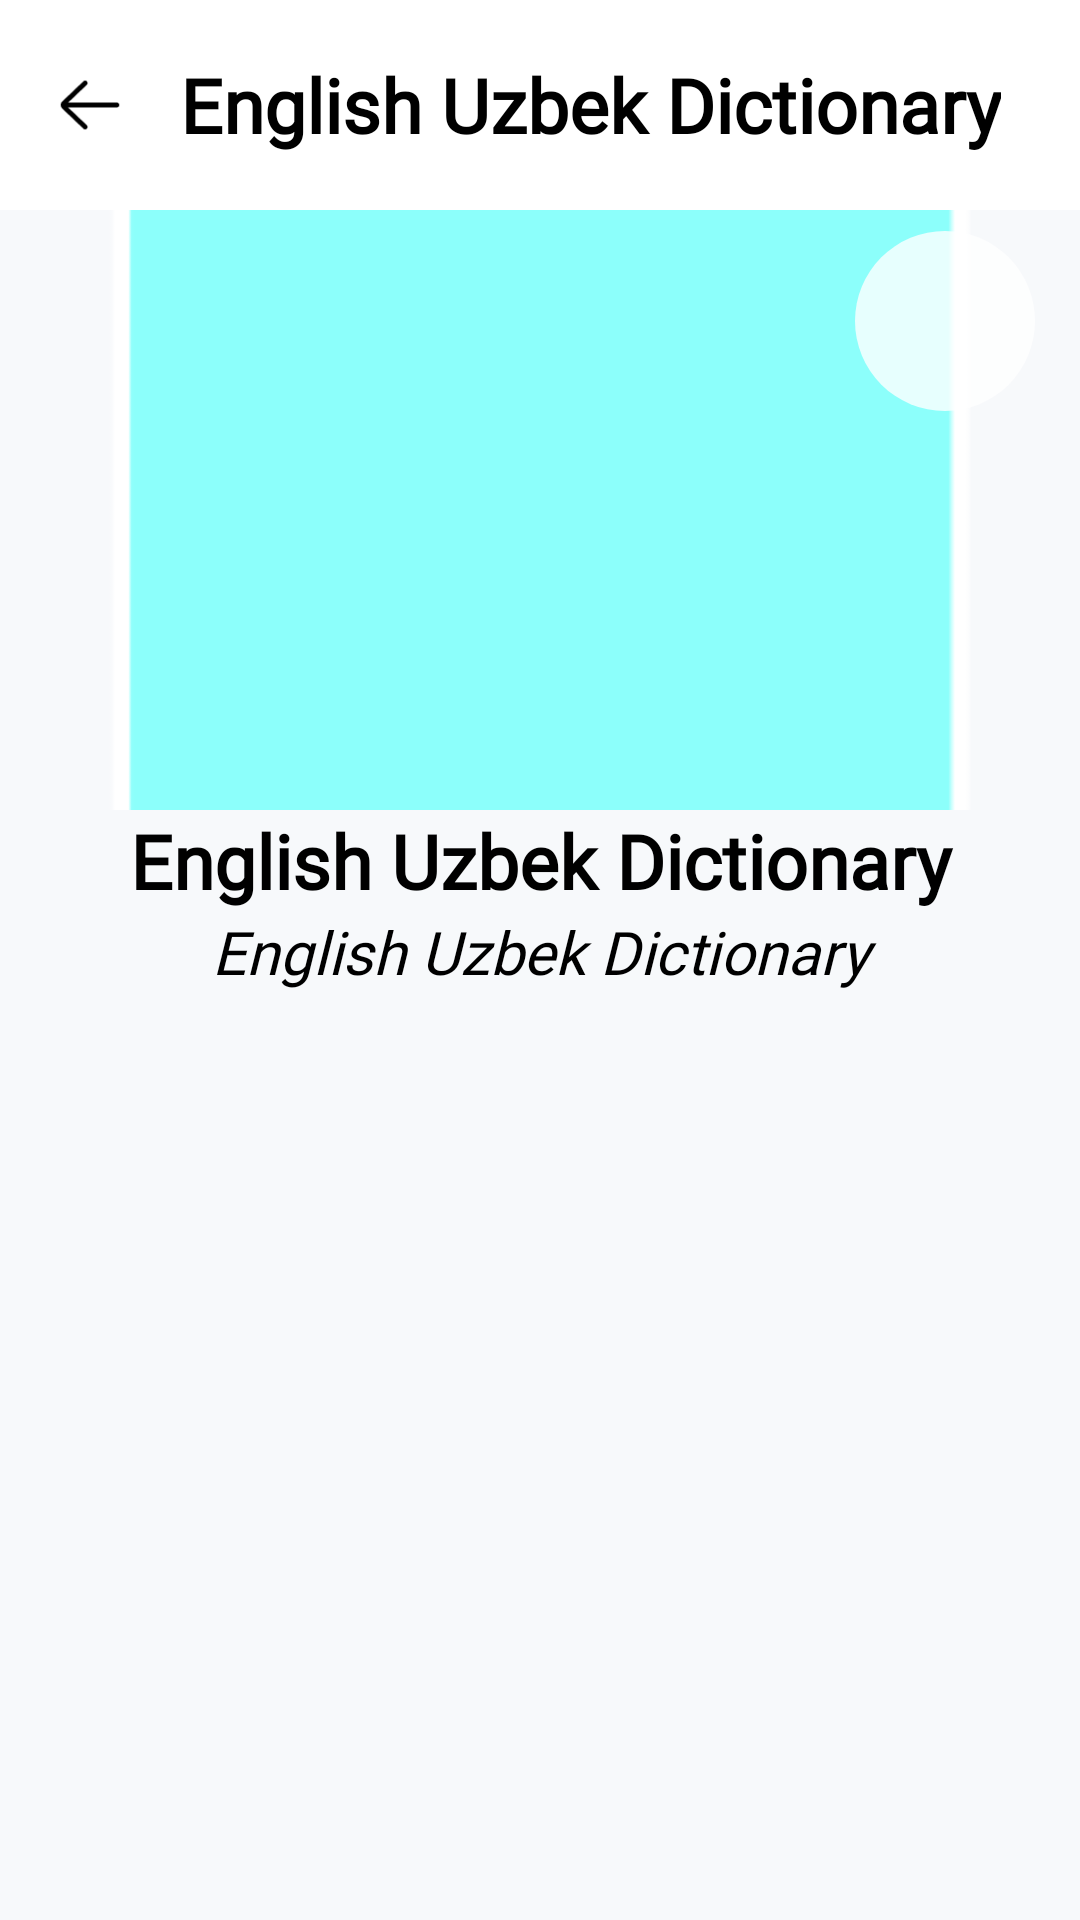

Screen size 1080px×1920px. Icon name, then its center in pixels as point (x, y):
left: point (90, 105)
